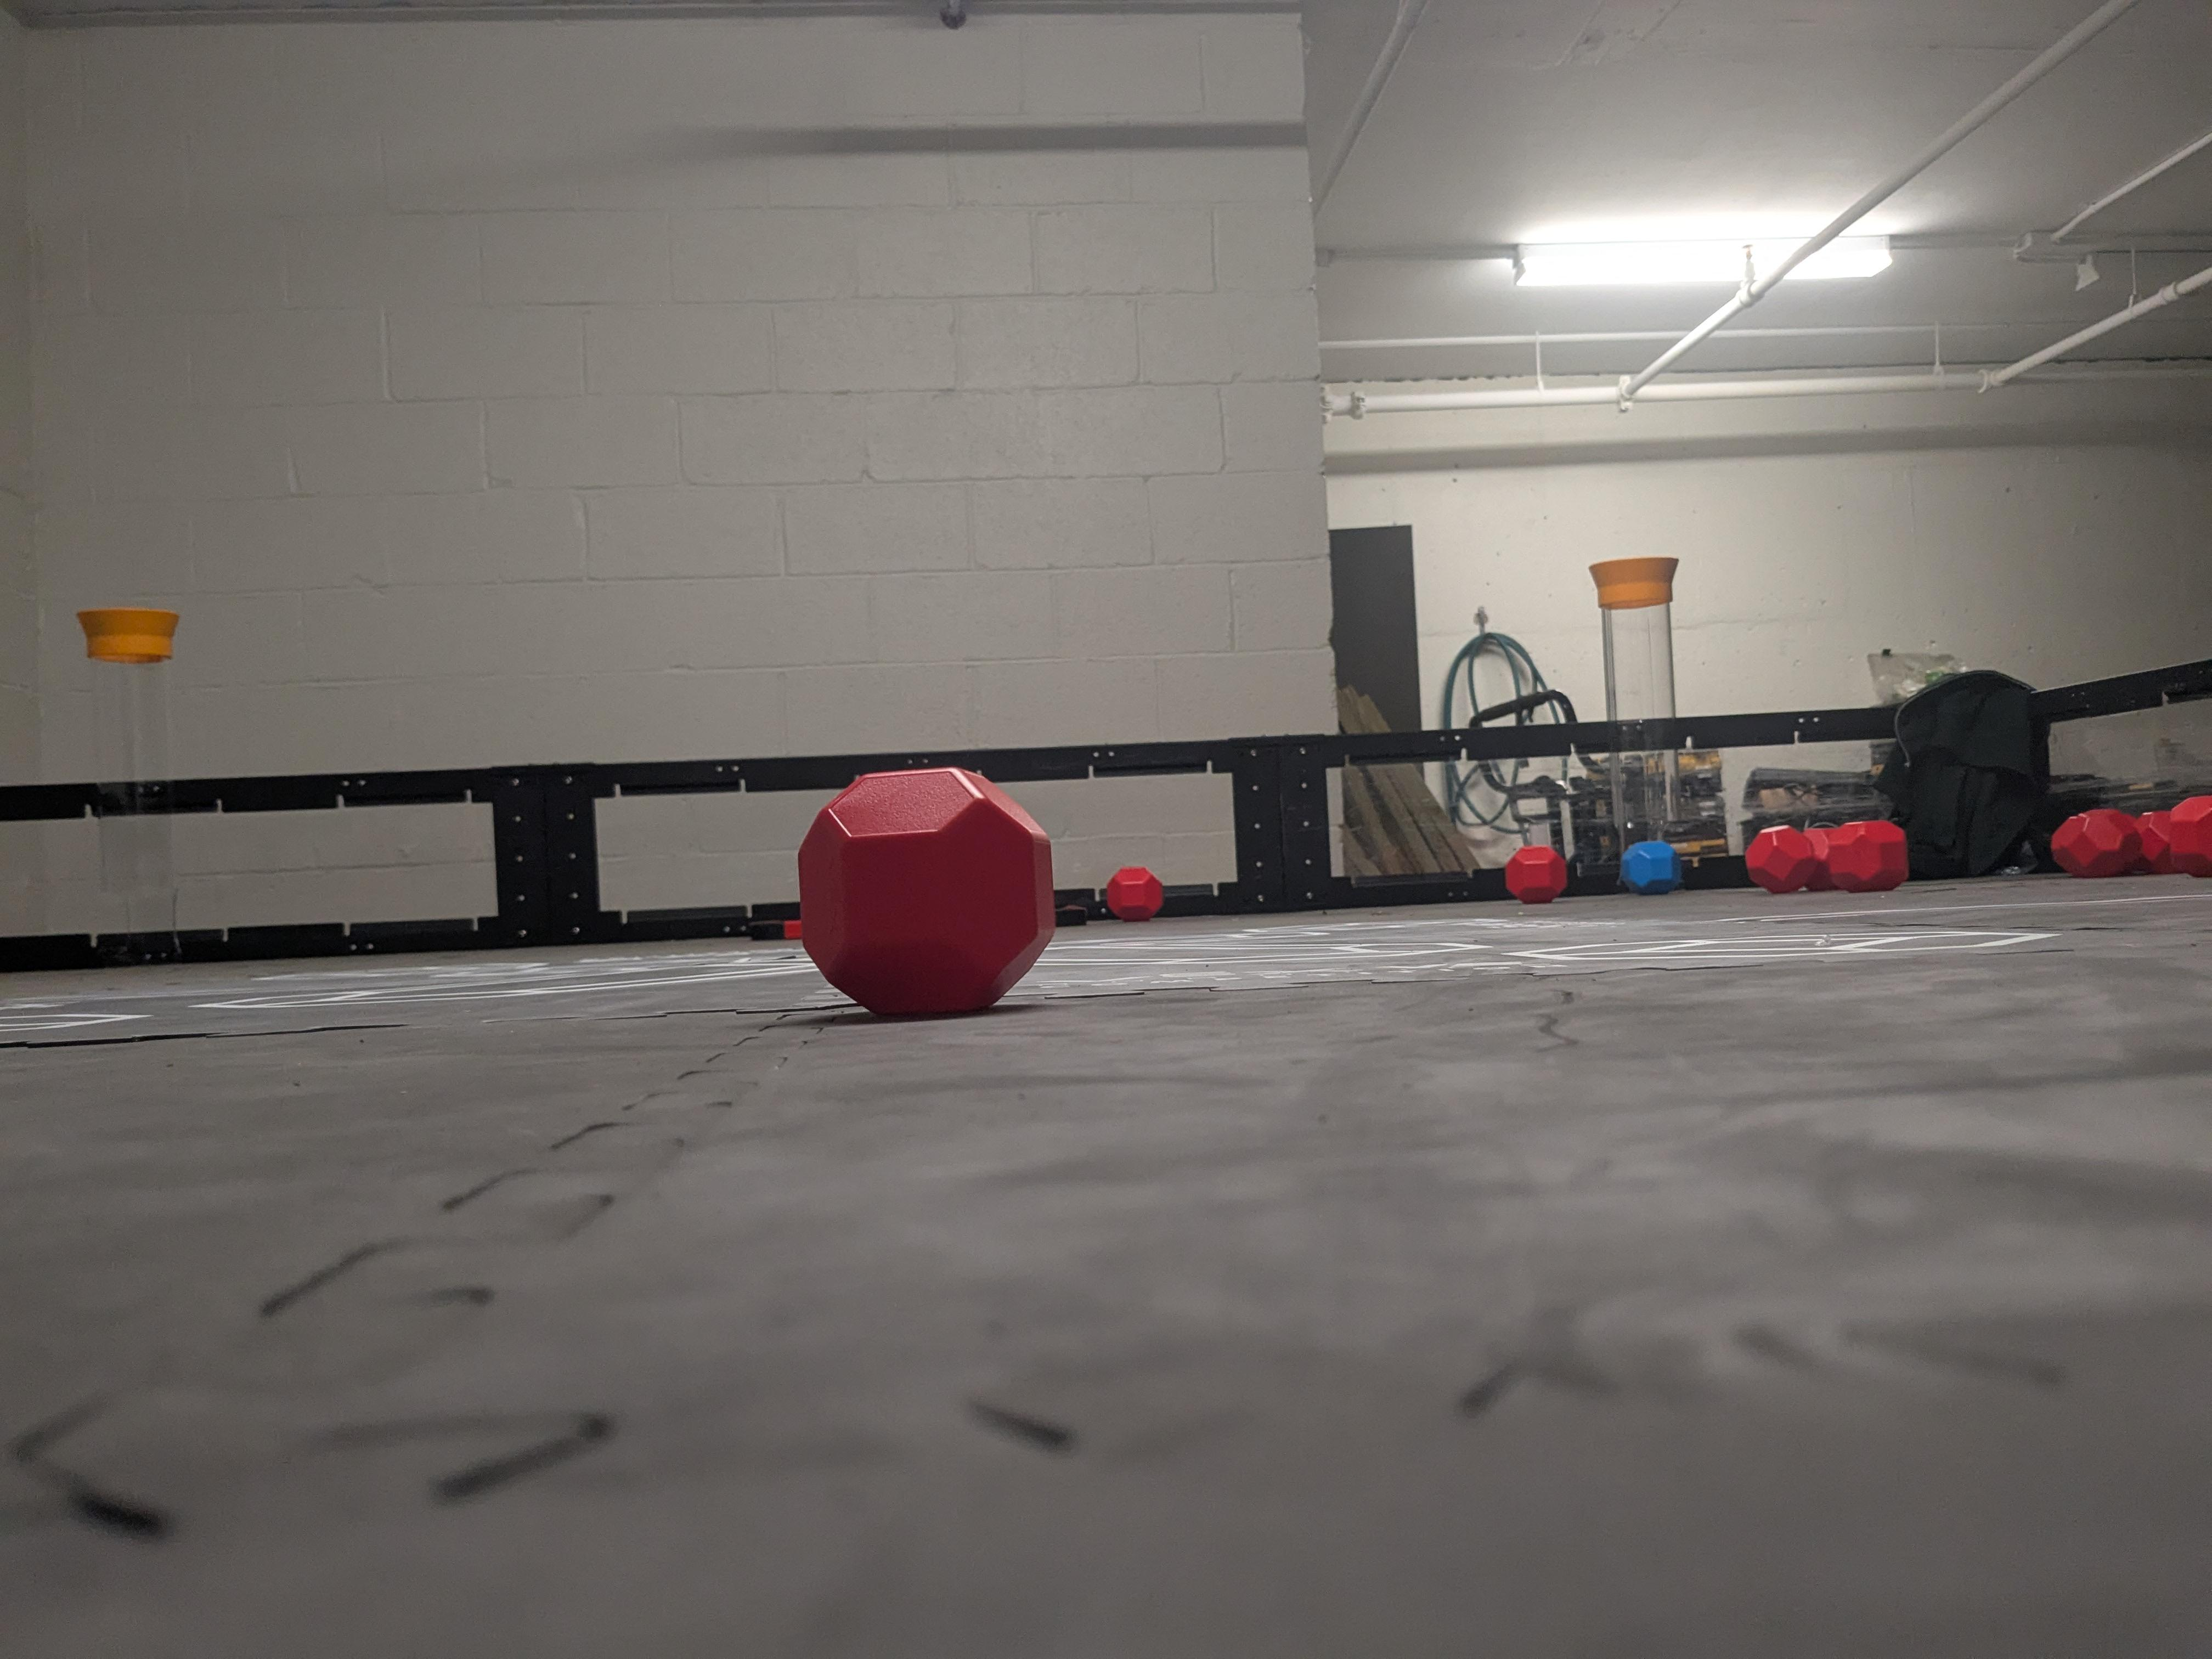Vex-Pieces-BLUE: (1620, 842, 1681, 894)
Vex-Pieces-RED: (801, 770, 1050, 1011), (1808, 819, 1907, 892), (2050, 809, 2142, 877), (1745, 826, 1822, 894), (2167, 795, 2212, 877), (1505, 845, 1568, 903), (1104, 866, 1162, 922), (2137, 810, 2175, 873)
